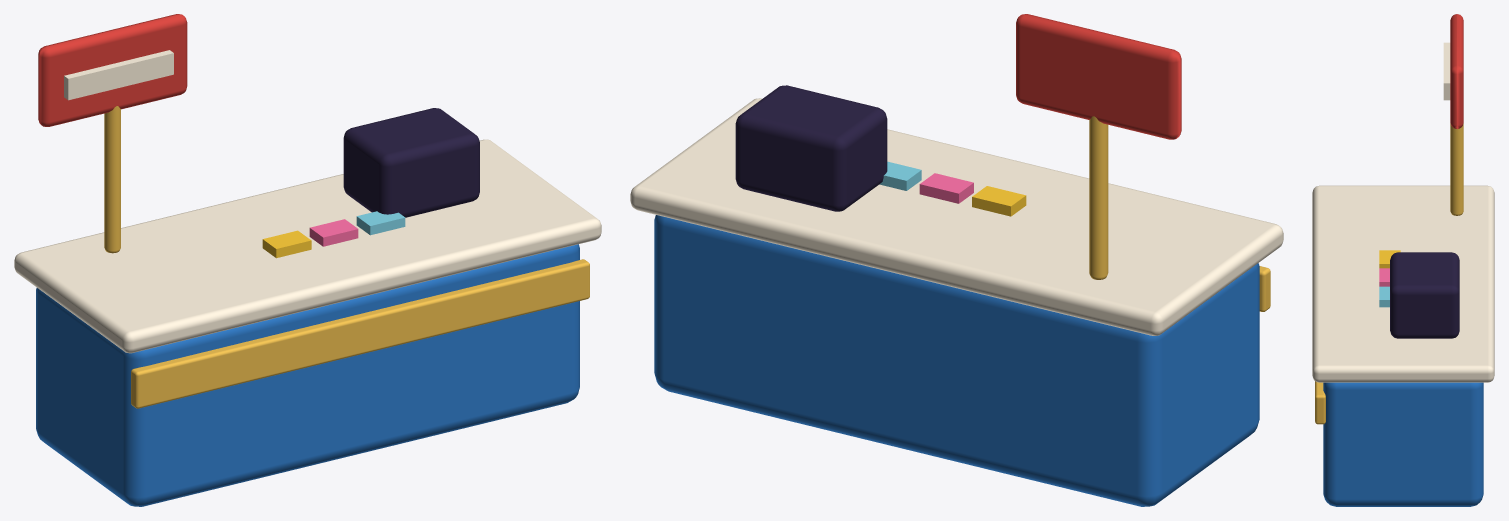
The model's file is ticket_counter.glb.
3 renders of one model, left to right at view 1: azimuth 30°, elevation 25°; view 2: azimuth 150°, elevation 25°; view 3: azimuth 270°, elevation 25°, orthographic. The views are drawn at different scales.
Visible parts, largest first — view 1: ticket_counter; view 2: ticket_counter; view 3: ticket_counter.
Part boxes in pixels (box(x1,y1,x2,y2)): ticket_counter: box(14, 14, 601, 506); ticket_counter: box(630, 14, 1283, 506); ticket_counter: box(1312, 14, 1494, 506).
Size of the model in its own units: 1.63 by 1.33 by 0.68.
